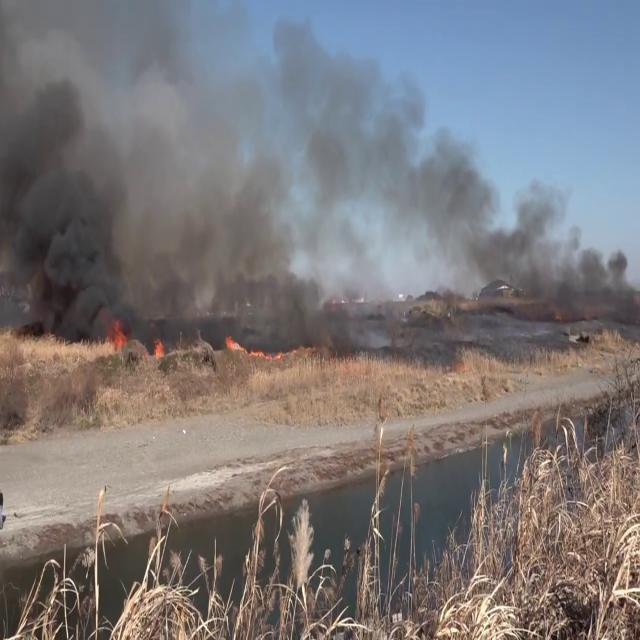Fire: (48, 311, 132, 361), (150, 324, 168, 362)
Smoke: (1, 9, 632, 343)
